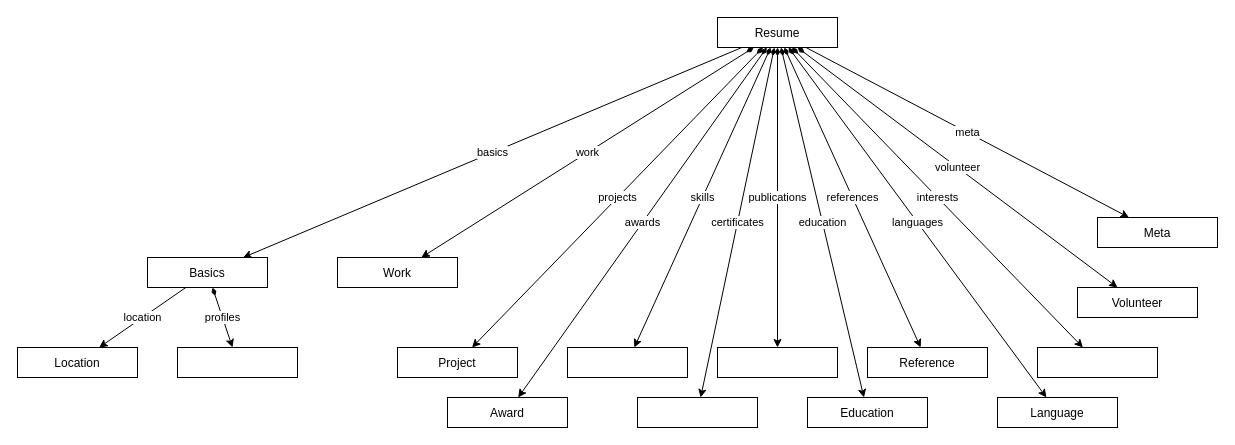
Image size: 1235x445. Some labels were removed from this diagram. Here are the shapes that lost their labels. From the top down, the centre of each, then its label:
At point 237,362: "Profile".
At point 627,362: "Skill".
At point 777,362: "Publication".
At point 1097,362: "Interest".
At point 697,412: "Certificate".
